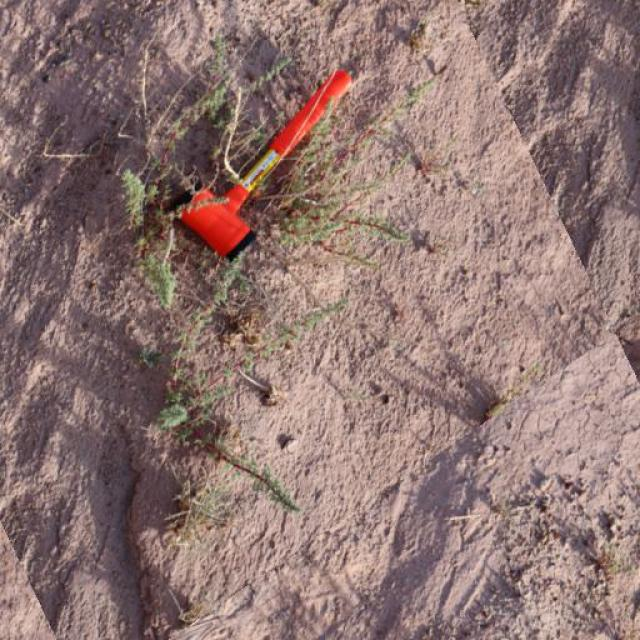mallet: (174, 66, 352, 260)
